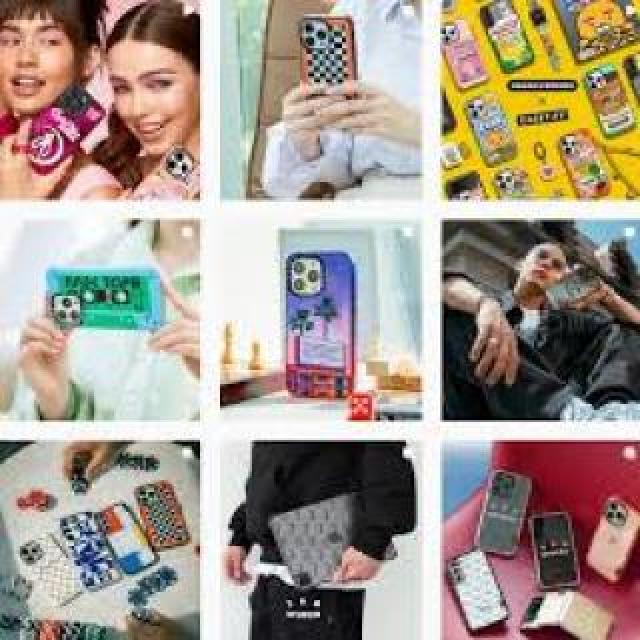laptop_computer: (268, 505, 410, 585)
smart phone: (268, 245, 377, 417), (25, 247, 175, 340), (288, 15, 384, 120), (27, 73, 108, 177), (12, 517, 83, 620), (473, 453, 537, 557), (588, 482, 640, 590), (128, 143, 208, 210), (453, 542, 510, 636), (473, 0, 532, 80), (526, 496, 572, 592), (575, 57, 625, 145), (457, 97, 513, 160), (434, 17, 484, 75), (560, 123, 592, 202)
